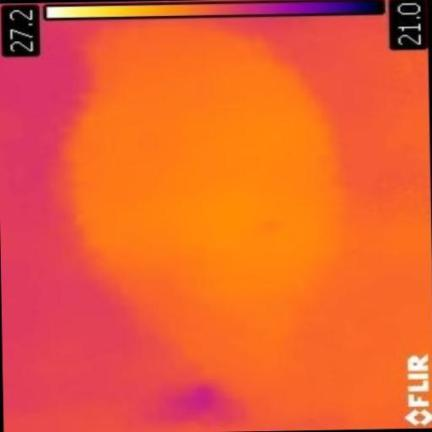mango: (66, 27, 337, 396)
